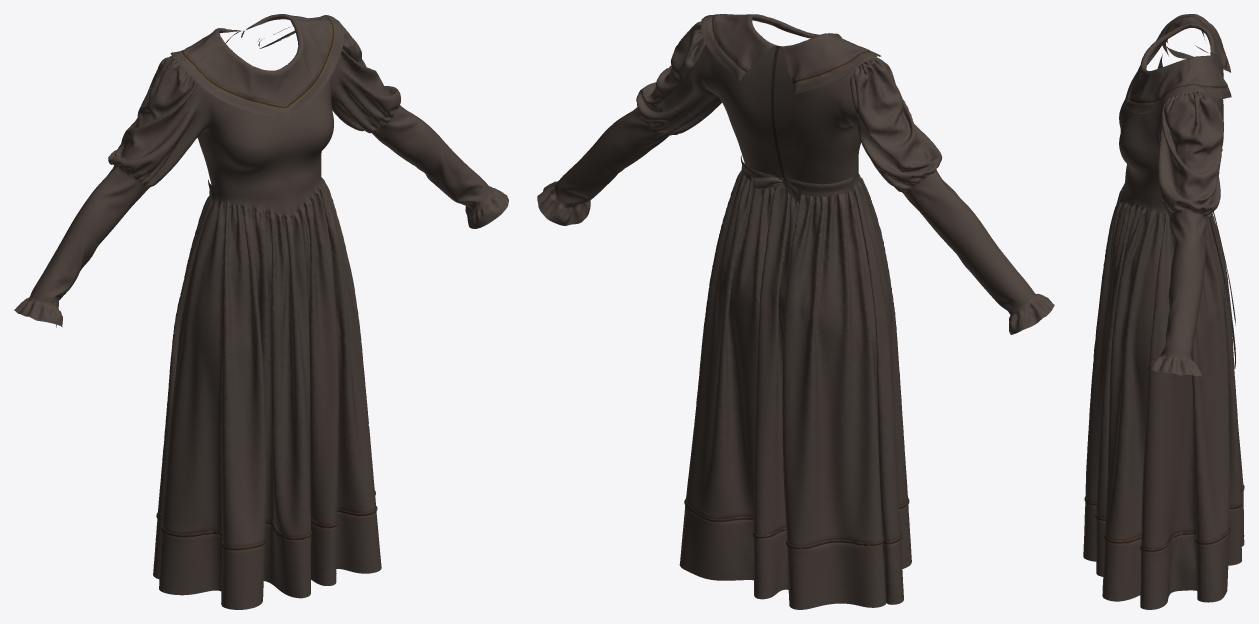
Rendered from victorian-puff-sleeve-dress.glb.
3 views of the same model, side by side, from view 1: azimuth 30°, elevation 25°; view 2: azimuth 150°, elevation 25°; view 3: azimuth 270°, elevation 25° (orthographic). The views are drawn at different scales.
Parts seen in each view (by area): view 1: center-offset; view 2: center-offset; view 3: center-offset.
Part boxes in pixels (x1,y1,x2,y2): center-offset: [14, 14, 508, 609]; center-offset: [537, 14, 1054, 609]; center-offset: [1083, 14, 1244, 609].
Size of the model in its own units: 116 by 122 by 34.16.
5 materials, 5 textured.
